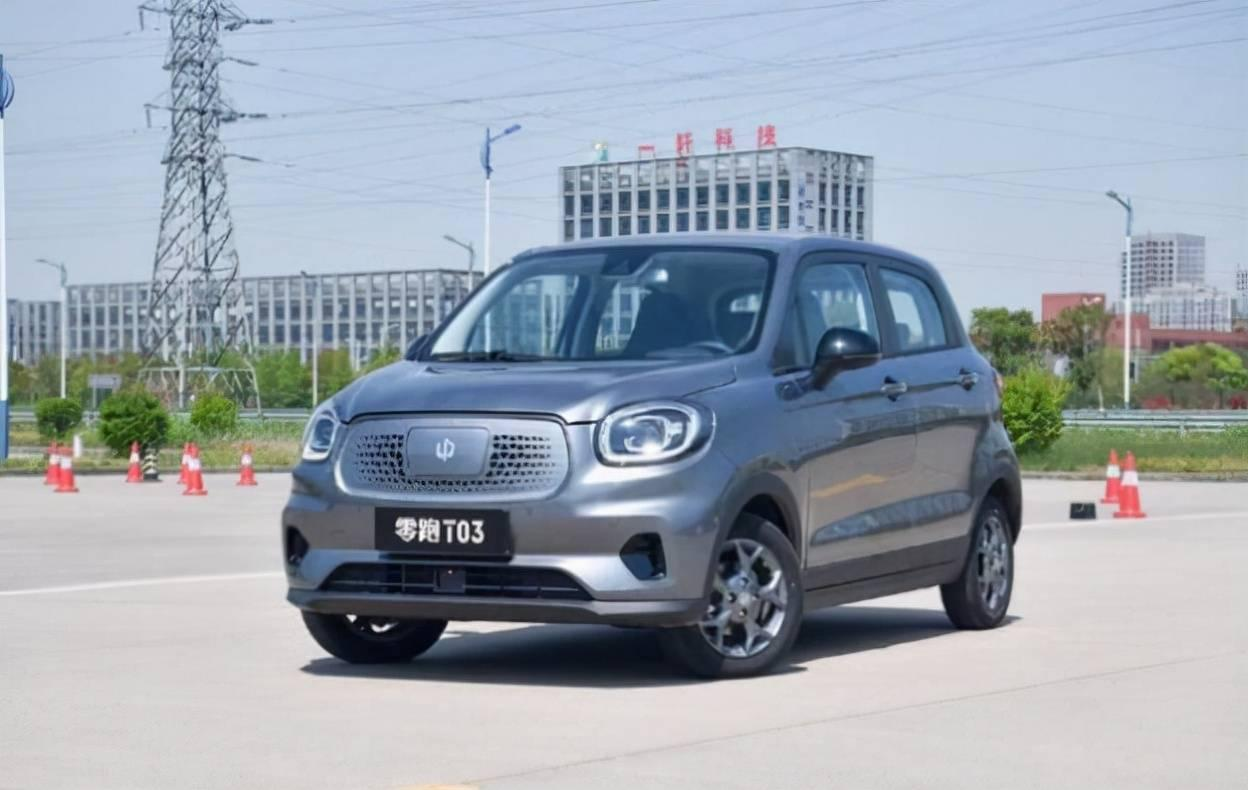LEAPMOTOR: (434, 435, 456, 463)
